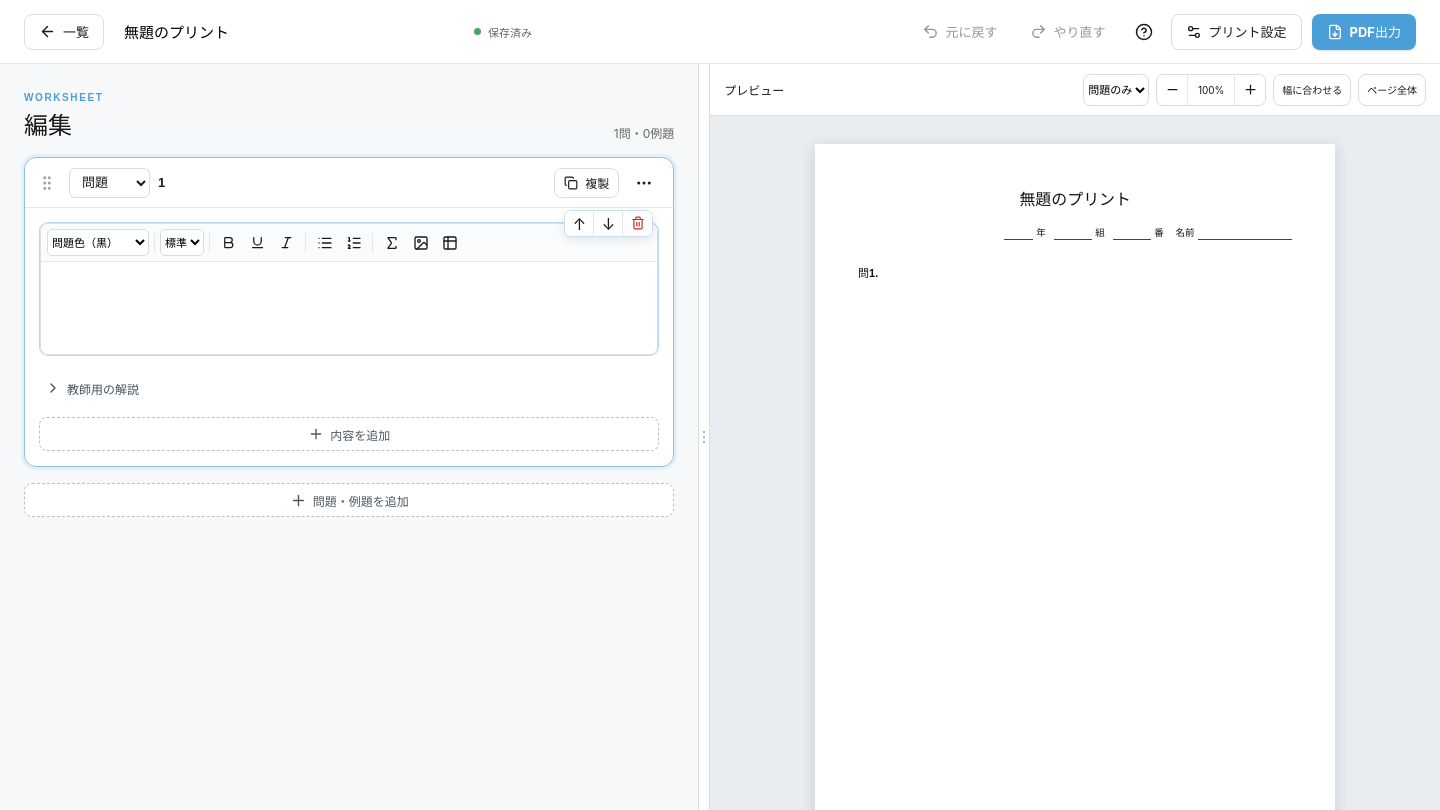
Scenario: EditorScreen 離脱・保存統合 › 保存失敗をfailedで表示し、再試行でIndexedDBへ保存する
Replace the text in the field named "プリント題名" with "再試行対象" at (289, 32), box [114, 14, 464, 50]
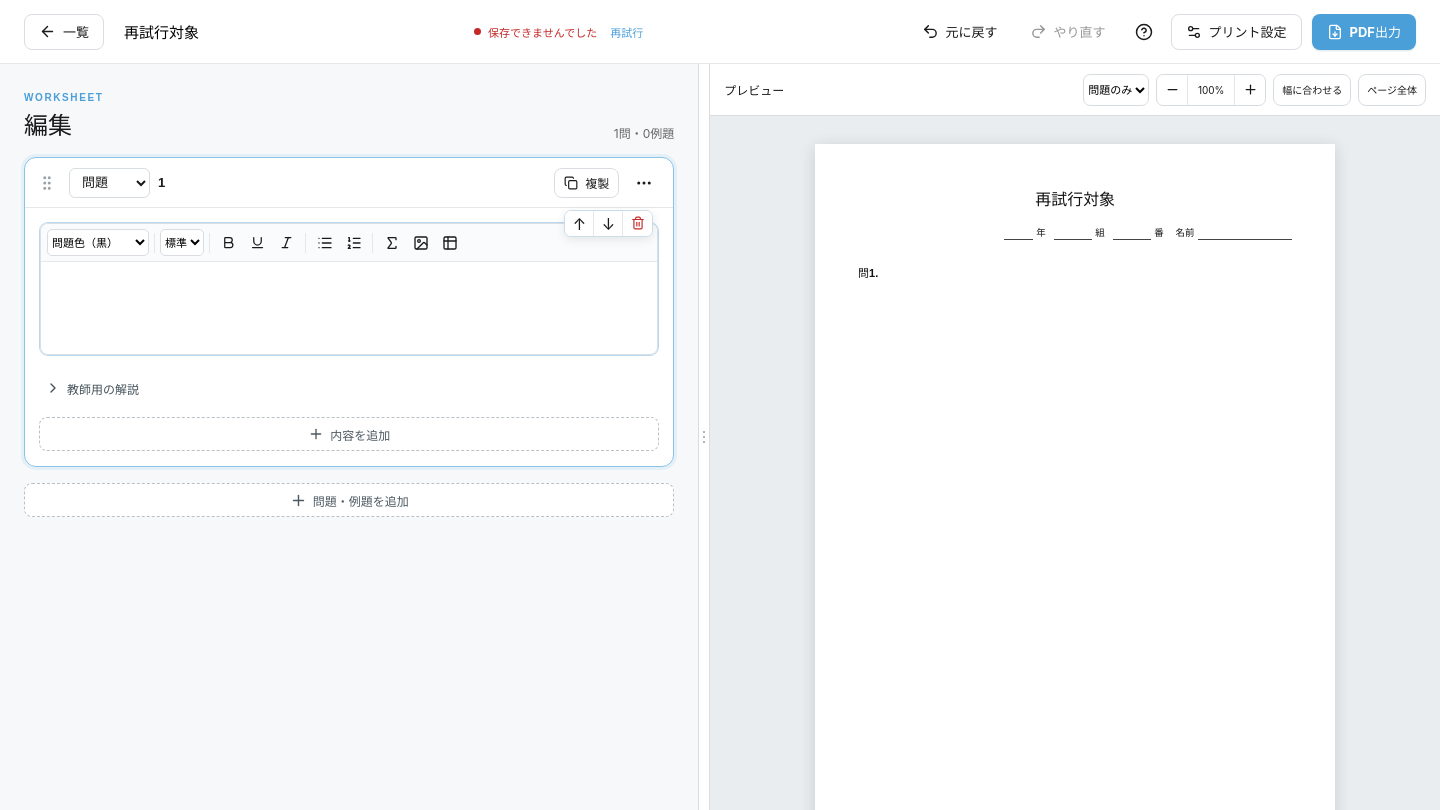
Now the text "保存できませんでした" is shown, box [488, 26, 597, 40]
Click the button "再試行" at (627, 32), box [604, 22, 649, 40]
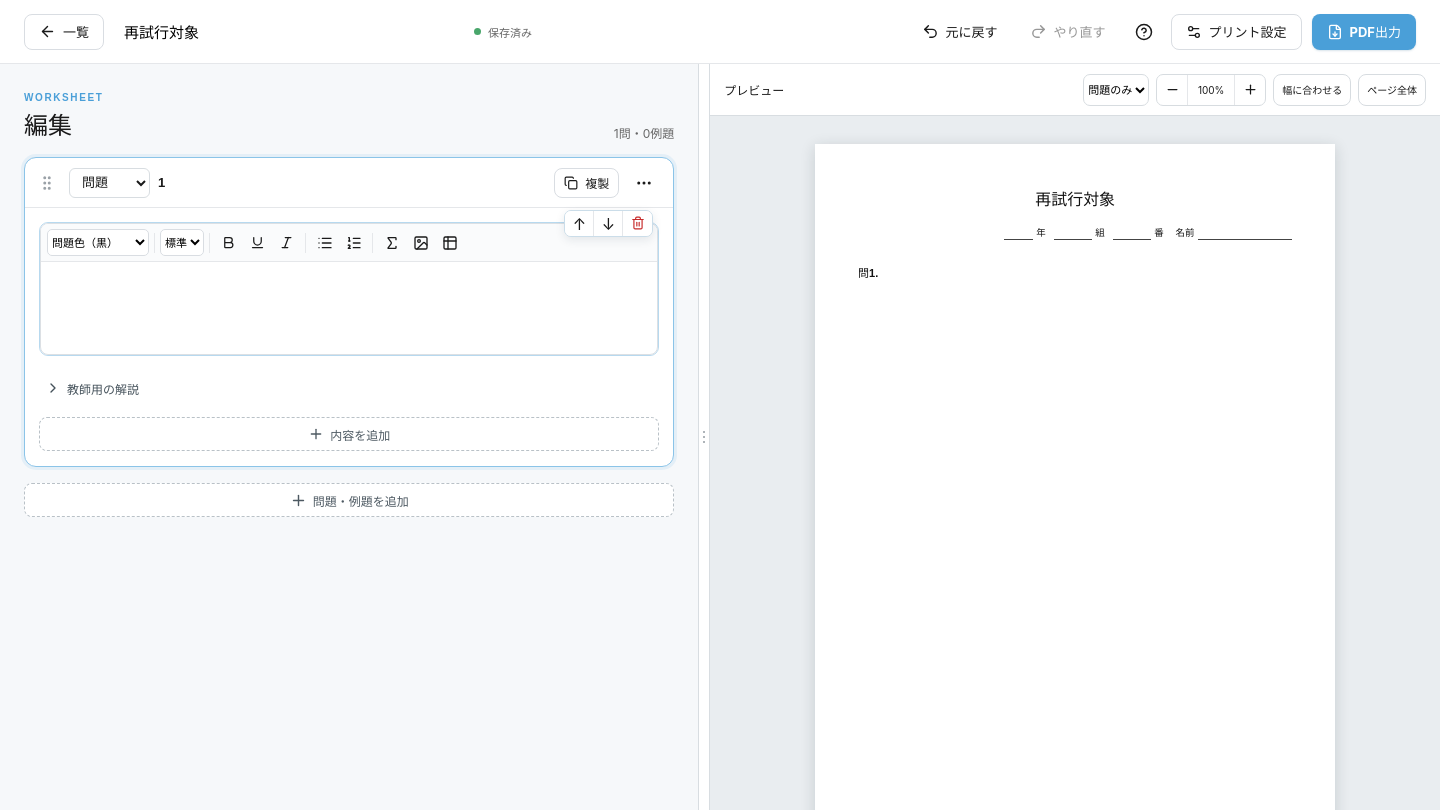
Now the heading "再試行対象" is shown, box [1035, 191, 1115, 208]
Now the text "保存済み" is shown, box [474, 24, 532, 40]
